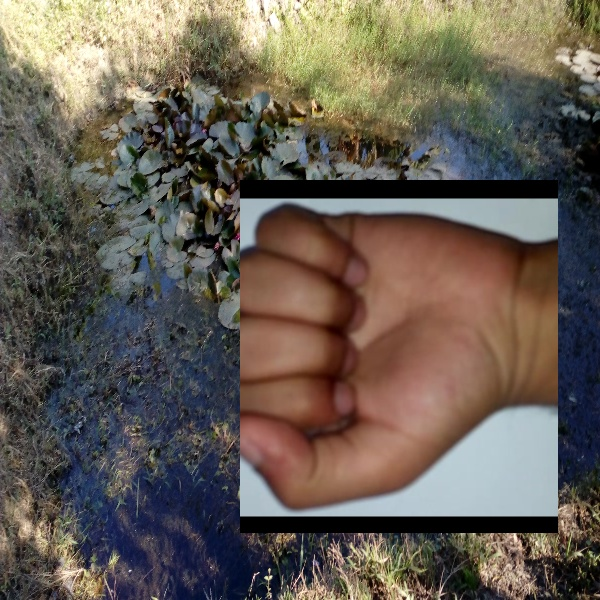A: (240, 180, 558, 533)
